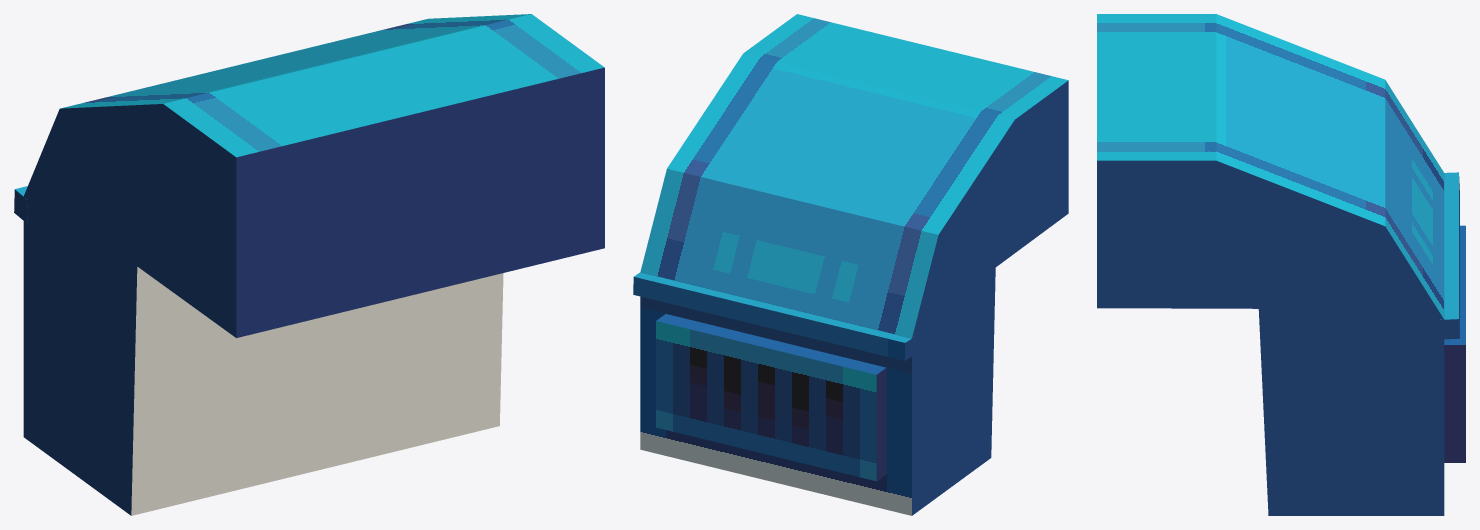
Rendered from df5_carport_grille.obj.
3 renders of one model, left to right at view 1: azimuth 30°, elevation 25°; view 2: azimuth 150°, elevation 25°; view 3: azimuth 270°, elevation 25°, orthographic. The views are drawn at different scales.
Parts seen in each view (by area): view 1: cube; view 2: cube; view 3: cube.
Boxes of the visible parts, box(x1,y1,x2,y2) form: cube: box(14, 14, 604, 515); cube: box(633, 14, 1068, 515); cube: box(1097, 14, 1465, 515).
Size of the model in its own units: 1 by 1.13 by 1.06.
